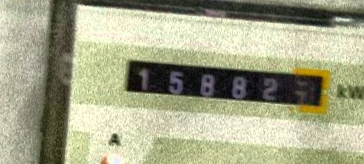1: (136, 66, 153, 92)
2: (262, 74, 280, 102)
5: (167, 68, 186, 95)
7: (293, 87, 308, 104)
8: (198, 71, 217, 97), (230, 72, 248, 99)
screen: (111, 43, 342, 124)
